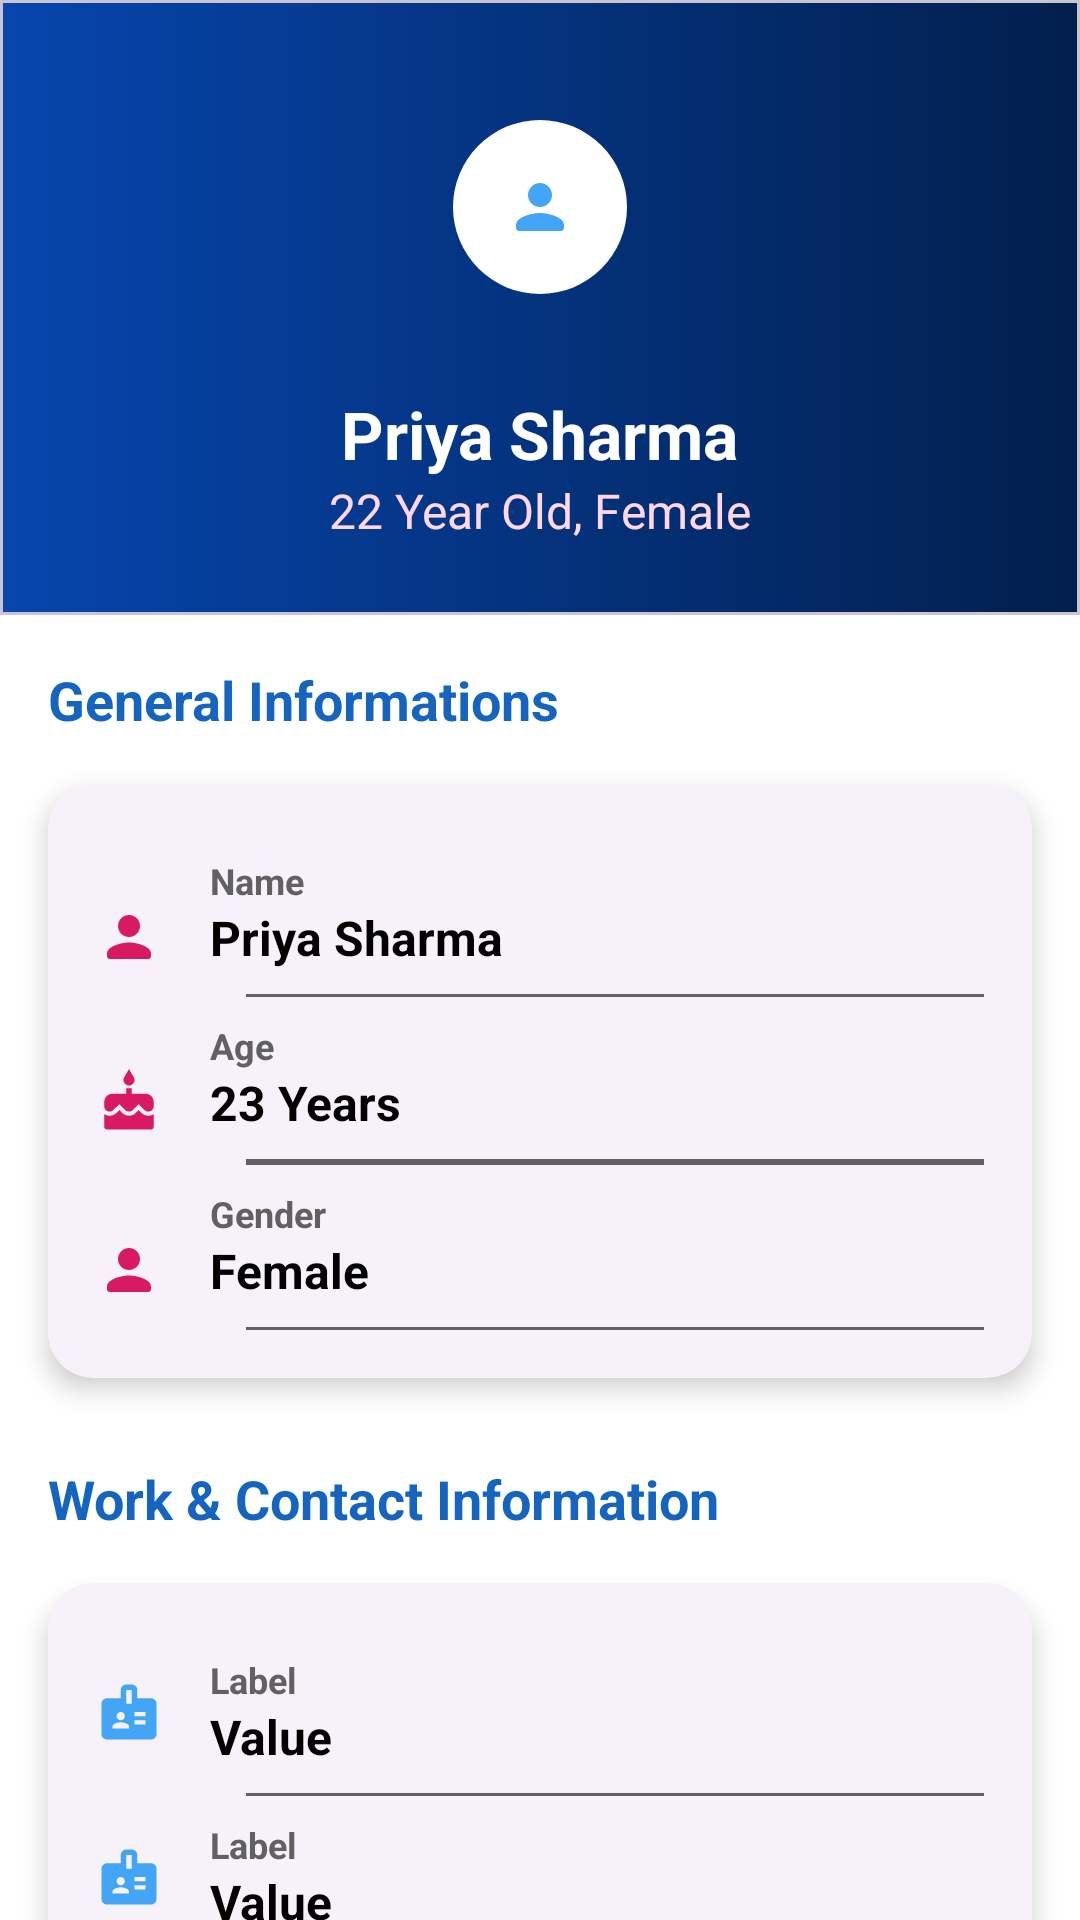

Where icons sit on this 1080px x 1920px app screen, as (x1,y1,x2,y2):
badge: (101,1684,157,1740), (101,1849,157,1905)
cake: (104,1069,154,1130)
person: (453,120,627,294), (107,915,151,959), (107,1248,151,1292)
